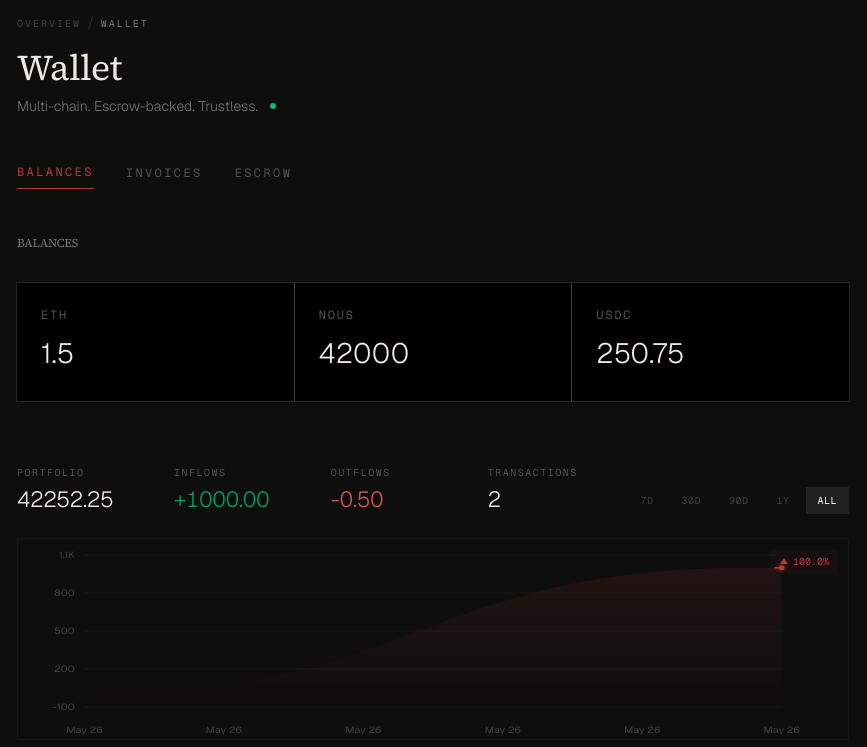
Scenario: Wallet page › Invoices tab › shows empty invoices state when none exist
The image size is (867, 747).
Expected: the heading "Balances" is shown, [17,235,78,251]
Click the button "invoices". click: point(164, 177)
box: [126,164,203,189]
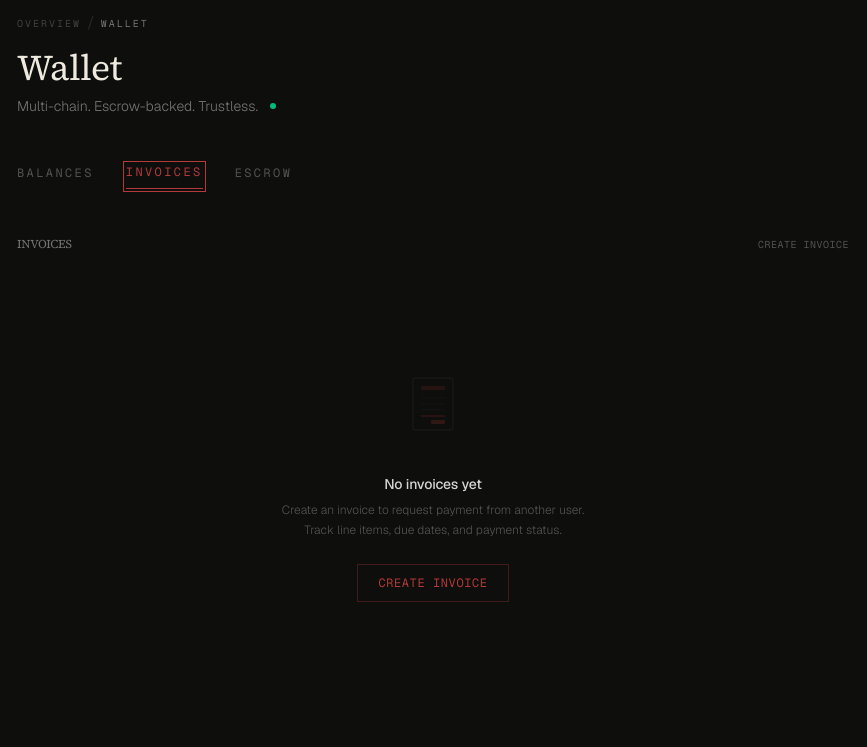
Result: the heading "No invoices yet" is shown at [384,476,482,493]
